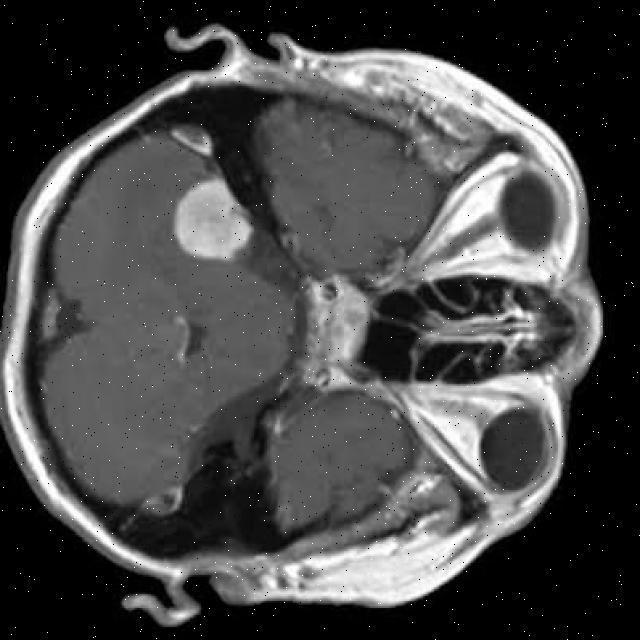Meningioma: (174, 177, 253, 261)
